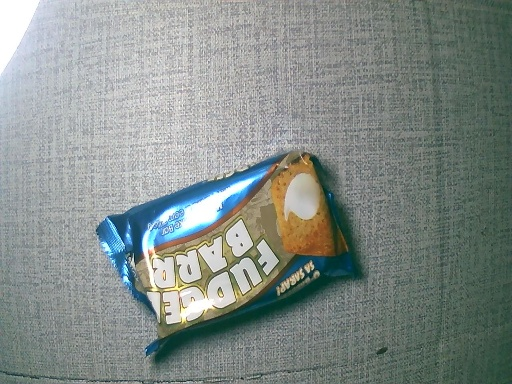plastic: (96, 152, 359, 360)
